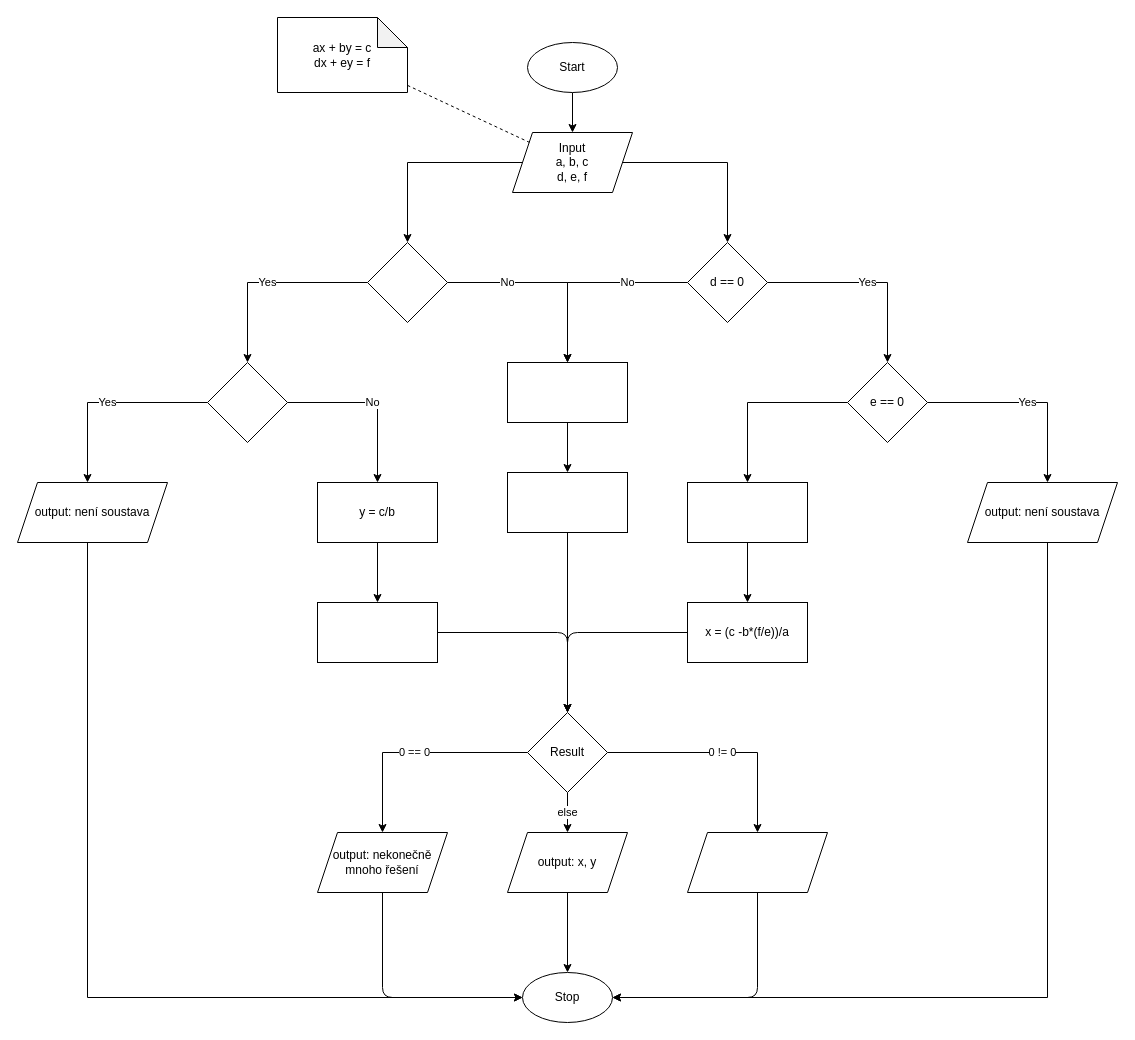
Image size: 1135x1040. Some labels were removed from this diagram. Here are the shapes that lost their labels. From the top down, the centre of each, then its label:
(407,282): a == 0
(247,402): b == 0
(567,392): x = (c-by)/a
(567,502): d*((c-by)/a) + ey = f | v y = (f - d*((c-by)/a))/e
(747,512): y = f/e
(377,632): x = (f - e*(c/b))/d
(757,862): output: nemá řešení
